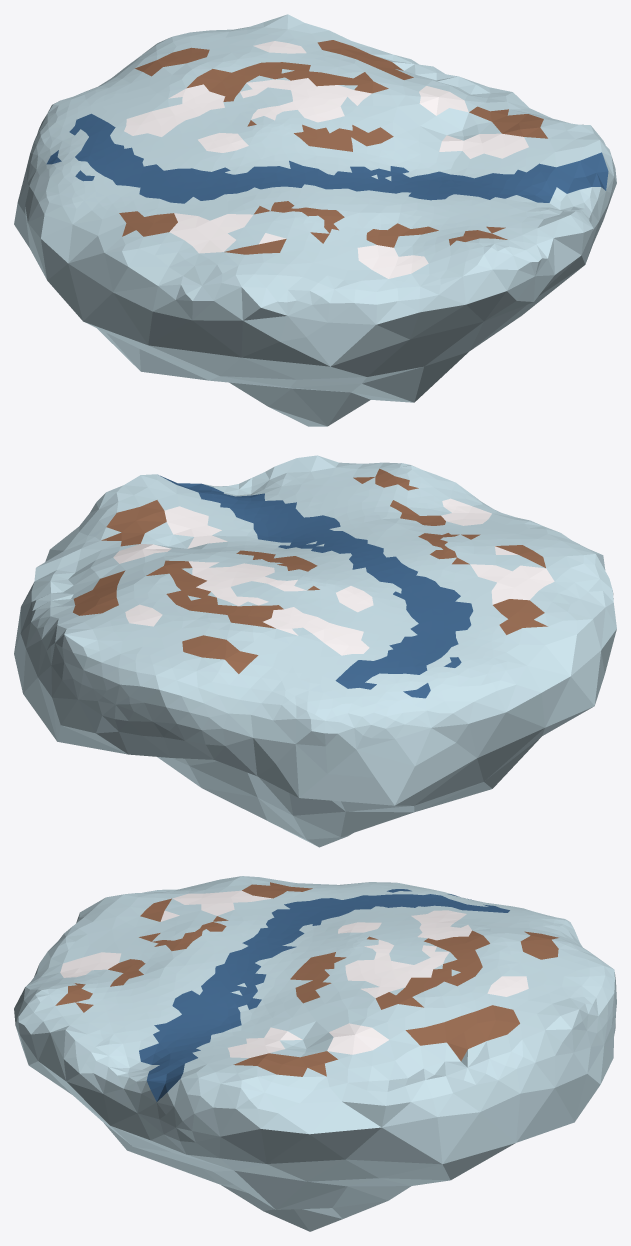
Rendered from small3.fbx.
3 renders of one model, top to bottom at view 1: azimuth 30°, elevation 25°; view 2: azimuth 150°, elevation 25°; view 3: azimuth 270°, elevation 25°, orthographic. The views are drawn at different scales.
Parts seen in each view (by area): view 1: 棱角球; view 2: 棱角球; view 3: 棱角球.
Boxes of the visible parts, box(x1,y1,x2,y2) form: 棱角球: box(14, 14, 616, 426); 棱角球: box(14, 455, 616, 847); 棱角球: box(14, 876, 616, 1231).
Bounding box in the file's own units: 4344 × 2338 × 4461.
